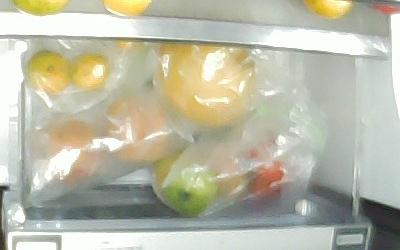peach_vinyl: (102, 95, 169, 162), (49, 120, 102, 182)
pear_vinyl: (158, 42, 255, 125)
tangerine_vinyl: (23, 48, 72, 93), (69, 51, 109, 92)
tomato_vinyl: (153, 155, 216, 213), (241, 136, 284, 198)
